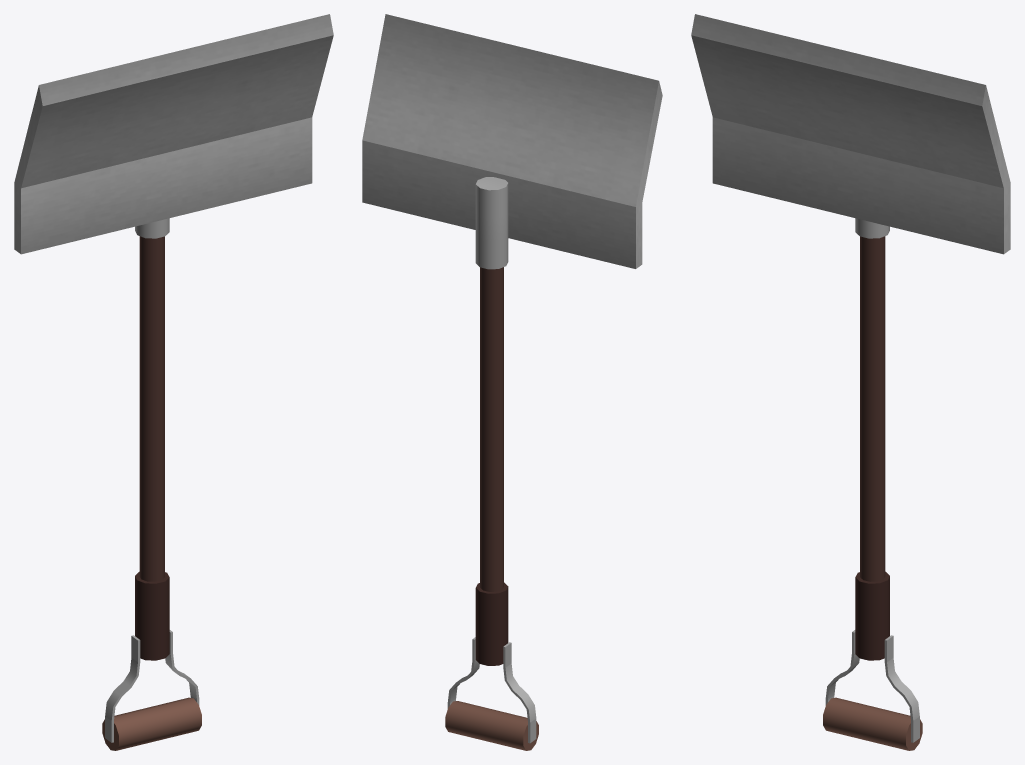
The model's file is Xeng sat can go.fbx.
The picture shows the model from 3 angles, left to right: view 1: azimuth 30°, elevation 25°; view 2: azimuth 150°, elevation 25°; view 3: azimuth 330°, elevation 25°; orthographic projection. The views are drawn at different scales.
Visible parts, largest first — view 1: L3, C3, TC3; view 2: L3, C3, TC3; view 3: L3, C3, TC3.
Part boxes in pixels (left/top/right/bottom): L3: left=14, top=14, right=333, bottom=254; C3: left=139, top=236, right=164, bottom=581; TC3: left=102, top=571, right=201, bottom=750; L3: left=362, top=14, right=662, bottom=269; C3: left=480, top=267, right=503, bottom=591; TC3: left=445, top=582, right=538, bottom=750; L3: left=691, top=14, right=1010, bottom=254; C3: left=860, top=236, right=885, bottom=581; TC3: left=823, top=571, right=922, bottom=750.
Bounding box in the file's own units: 128 × 301 × 33.8.
